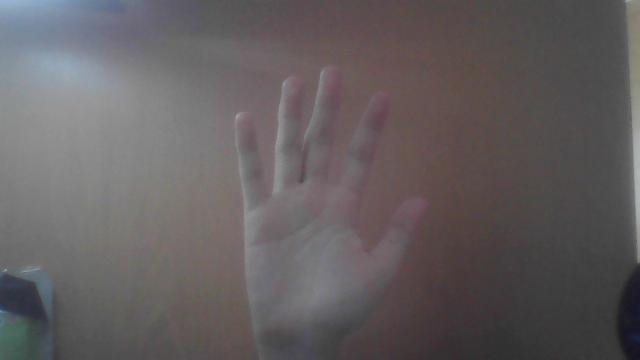Stop: (233, 56, 432, 336)
